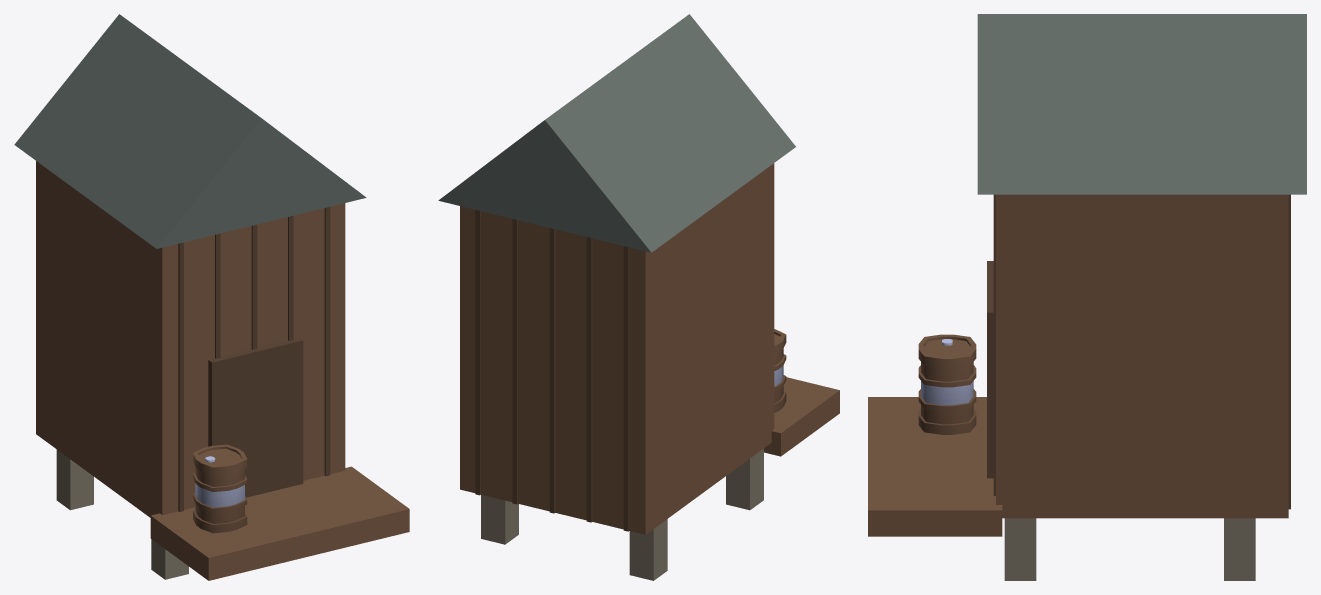
The model's file is facility-granary.glb.
3 renders of one model, left to right at view 1: azimuth 30°, elevation 25°; view 2: azimuth 150°, elevation 25°; view 3: azimuth 270°, elevation 25°, orthographic. The views are drawn at different scales.
Parts seen in each view (by area): view 1: Original box (×10), Original gable, barrel; view 2: Original box (×10), Original gable, barrel; view 3: Original box (×6), Original gable, barrel.
Part boxes in pixels (left/top/right/bottom): Original box (×10): left=36, top=161, right=409, bottom=580; Original gable: left=14, top=14, right=366, bottom=248; barrel: left=193, top=444, right=247, bottom=533; Original box (×10): left=460, top=163, right=839, bottom=580; Original gable: left=438, top=14, right=795, bottom=252; barrel: left=774, top=329, right=786, bottom=412; Original box (×6): left=868, top=194, right=1290, bottom=580; Original gable: left=977, top=14, right=1306, bottom=194; barrel: left=918, top=334, right=976, bottom=434.
Bounding box in the file's own units: 1.15 × 2.35 × 1.8.
Materials: 5 (1 with a texture image).
